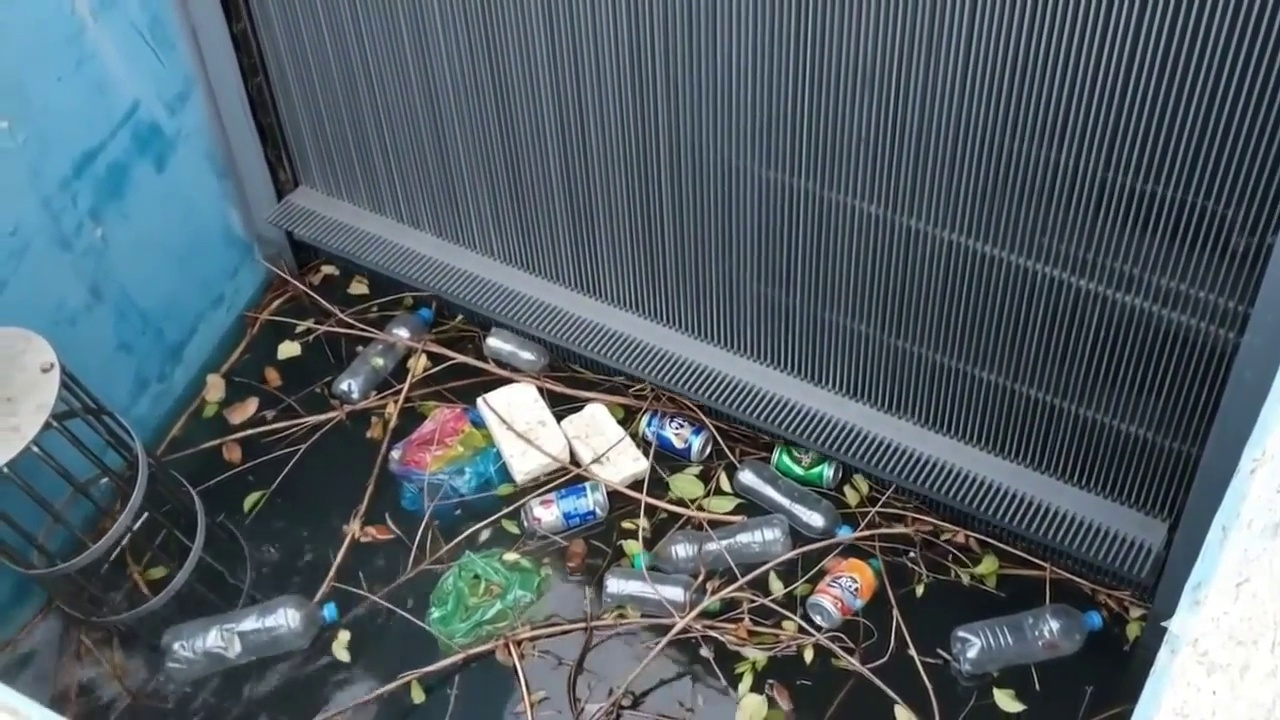debris: (342, 304, 932, 655), (163, 595, 340, 681), (952, 605, 1103, 674)
